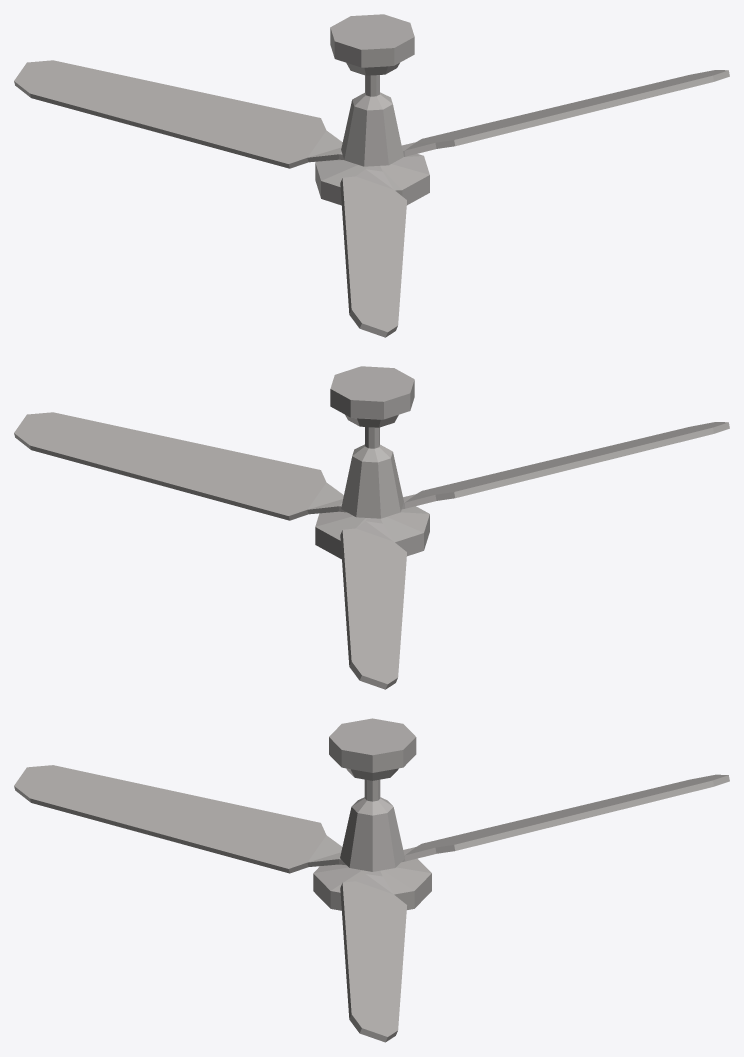
File: SM_Prop_CeilingFan_02.glb
3 views of the same model, one above another, from view 1: azimuth 30°, elevation 25°; view 2: azimuth 150°, elevation 25°; view 3: azimuth 270°, elevation 25° (orthographic).
Parts seen in each view (by area): view 1: SM_Prop_CeilingFan_02; view 2: SM_Prop_CeilingFan_02; view 3: SM_Prop_CeilingFan_02.
Boxes of the visible parts, x1,y1,x2,y2 form: SM_Prop_CeilingFan_02: (14,14,729,337); SM_Prop_CeilingFan_02: (14,366,729,689); SM_Prop_CeilingFan_02: (14,718,729,1042).
Size of the model in its own units: 1.8 by 0.5265 by 2.08.
Materials: 2 (2 with a texture image).
